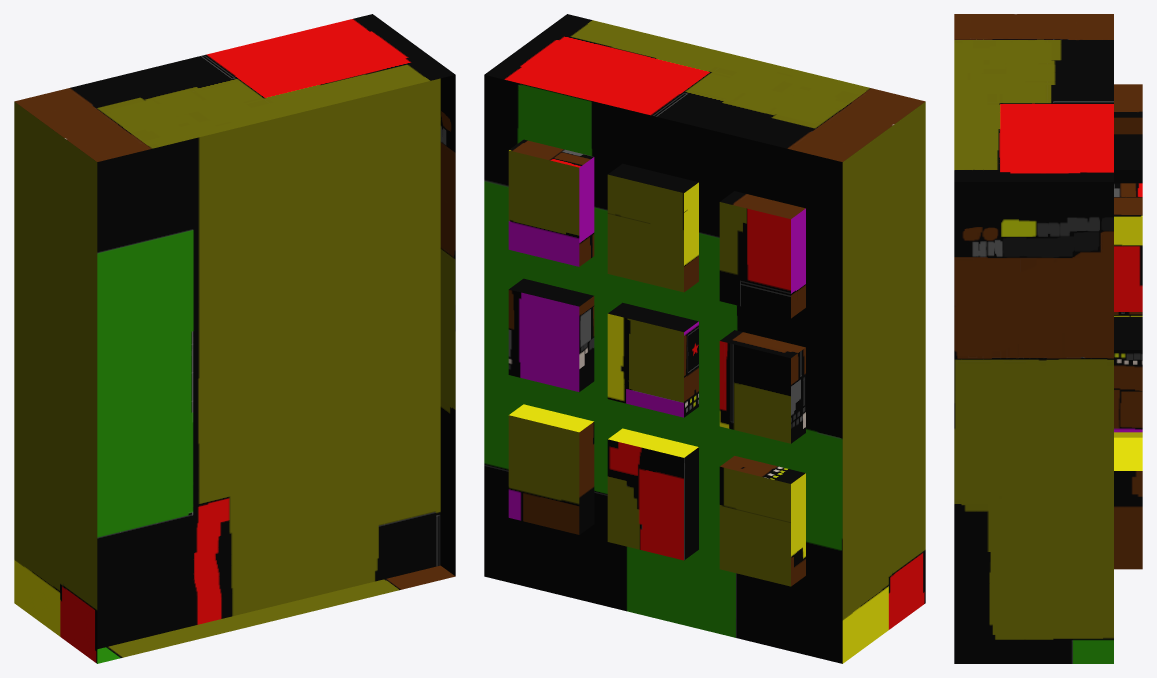
Rendered from keypad.fbx.
3 renders of one model, left to right at view 1: azimuth 30°, elevation 25°; view 2: azimuth 150°, elevation 25°; view 3: azimuth 270°, elevation 25°, orthographic. The views are drawn at different scales.
Visible parts, largest first — view 1: buttons; view 2: buttons; view 3: buttons.
Boxes of the visible parts, bbox=[...] form: buttons: bbox=[14, 14, 455, 663]; buttons: bbox=[484, 14, 925, 663]; buttons: bbox=[954, 14, 1142, 663].
Bounding box in the file's own units: 0.8613 × 1.15 × 0.4074.
